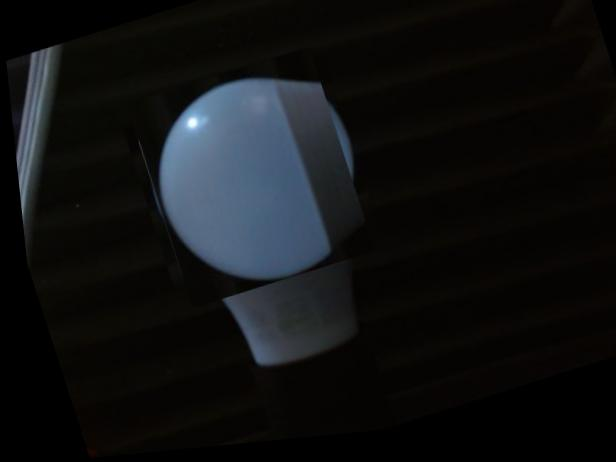Fan: (116, 52, 377, 311)
